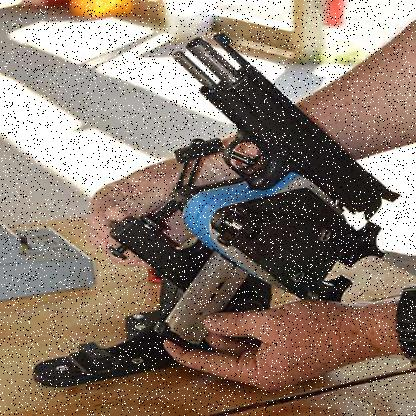pistol: (158, 33, 399, 349)
